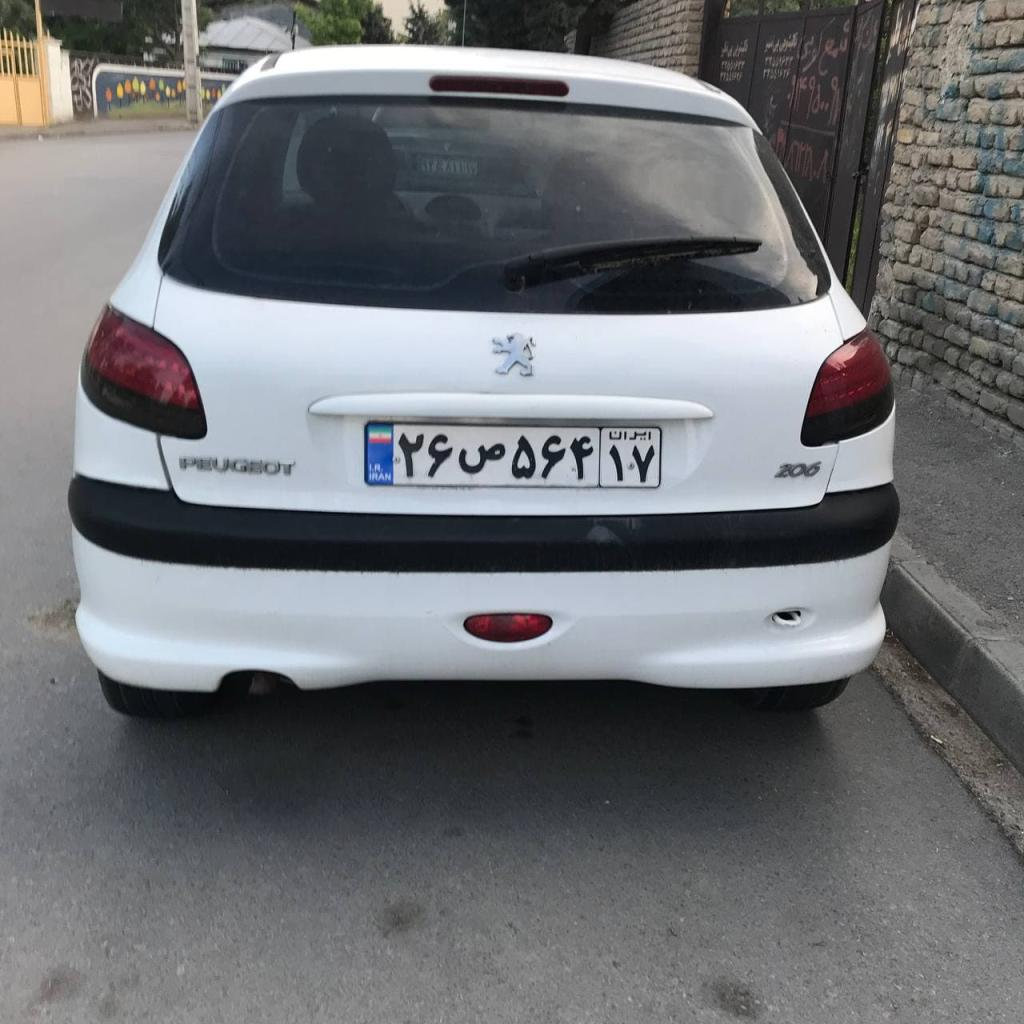Plates: (366, 422, 660, 486)
